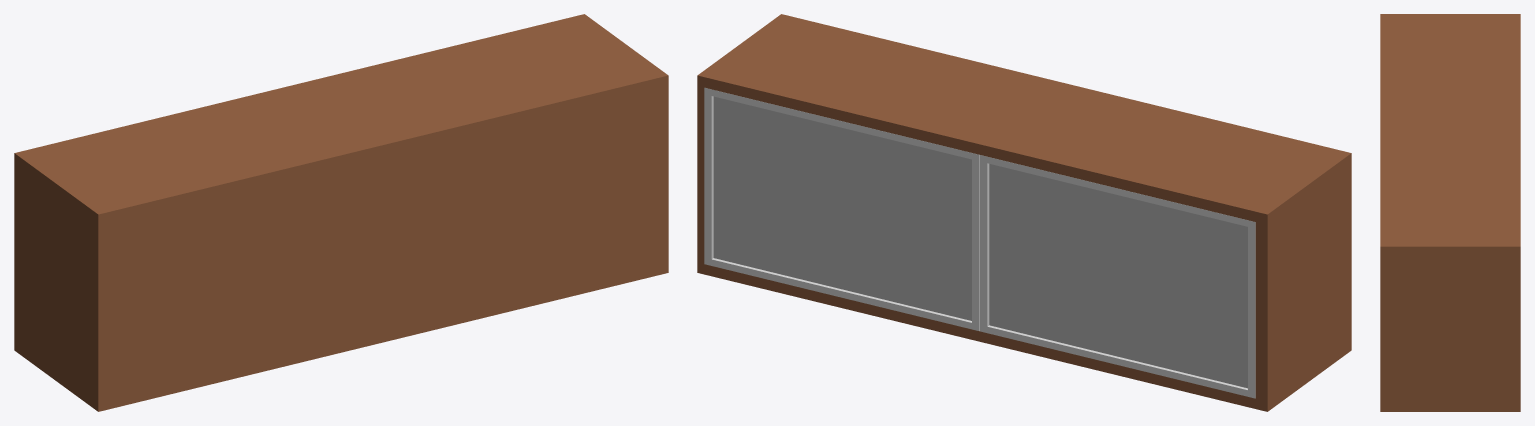
Rendered from Rak Transparant Interact.fbx.
3 views of the same model, side by side, from view 1: azimuth 30°, elevation 25°; view 2: azimuth 150°, elevation 25°; view 3: azimuth 270°, elevation 25° (orthographic). The views are drawn at different scales.
Parts seen in each view (by area): view 1: Cube.005; view 2: Cube.005, Cube.009, Cube.010, Cube.006, Cube.007; view 3: Cube.005.
Boxes of the visible parts, x1,y1,x2,y2 form: Cube.005: [14, 14, 668, 411]; Cube.005: [697, 14, 1351, 411]; Cube.009: [713, 96, 971, 320]; Cube.010: [989, 164, 1247, 388]; Cube.006: [704, 87, 979, 331]; Cube.007: [980, 155, 1255, 398]; Cube.005: [1380, 14, 1520, 411].
Size of the model in its own units: 301 by 99.46 by 76.75.
Materials: 3 (1 with a texture image).
